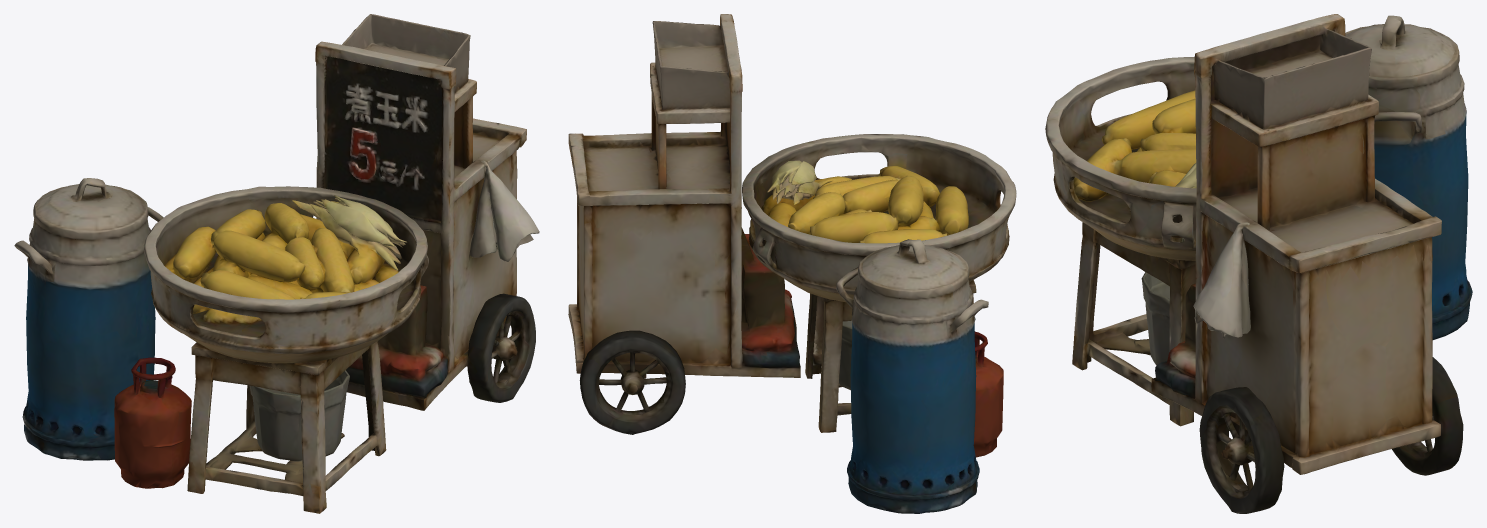
Rendered from tripo_convert_6aa62a60-ec0a-4e56-a09c-2ed38e4c059c.fbx.
3 renders of one model, left to right at view 1: azimuth 30°, elevation 25°; view 2: azimuth 150°, elevation 25°; view 3: azimuth 270°, elevation 25°, orthographic. The views are drawn at different scales.
Visible parts, largest first — view 1: tripo_node_6aa62a60; view 2: tripo_node_6aa62a60; view 3: tripo_node_6aa62a60.
Boxes of the visible parts, x1,y1,x2,y2 form: tripo_node_6aa62a60: (14, 14, 539, 513); tripo_node_6aa62a60: (568, 14, 1016, 513); tripo_node_6aa62a60: (1045, 14, 1472, 513).
Bounding box in the file's own units: 1 × 0.7465 × 0.6907.
1 material, 1 textured.
